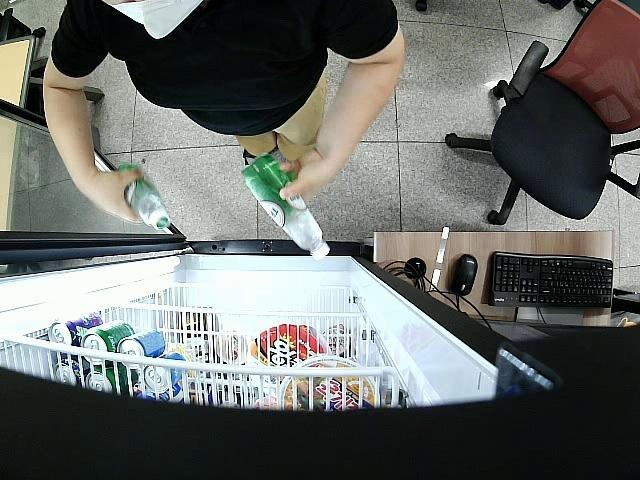18_trevi: (239, 152, 330, 262), (116, 162, 170, 231)
